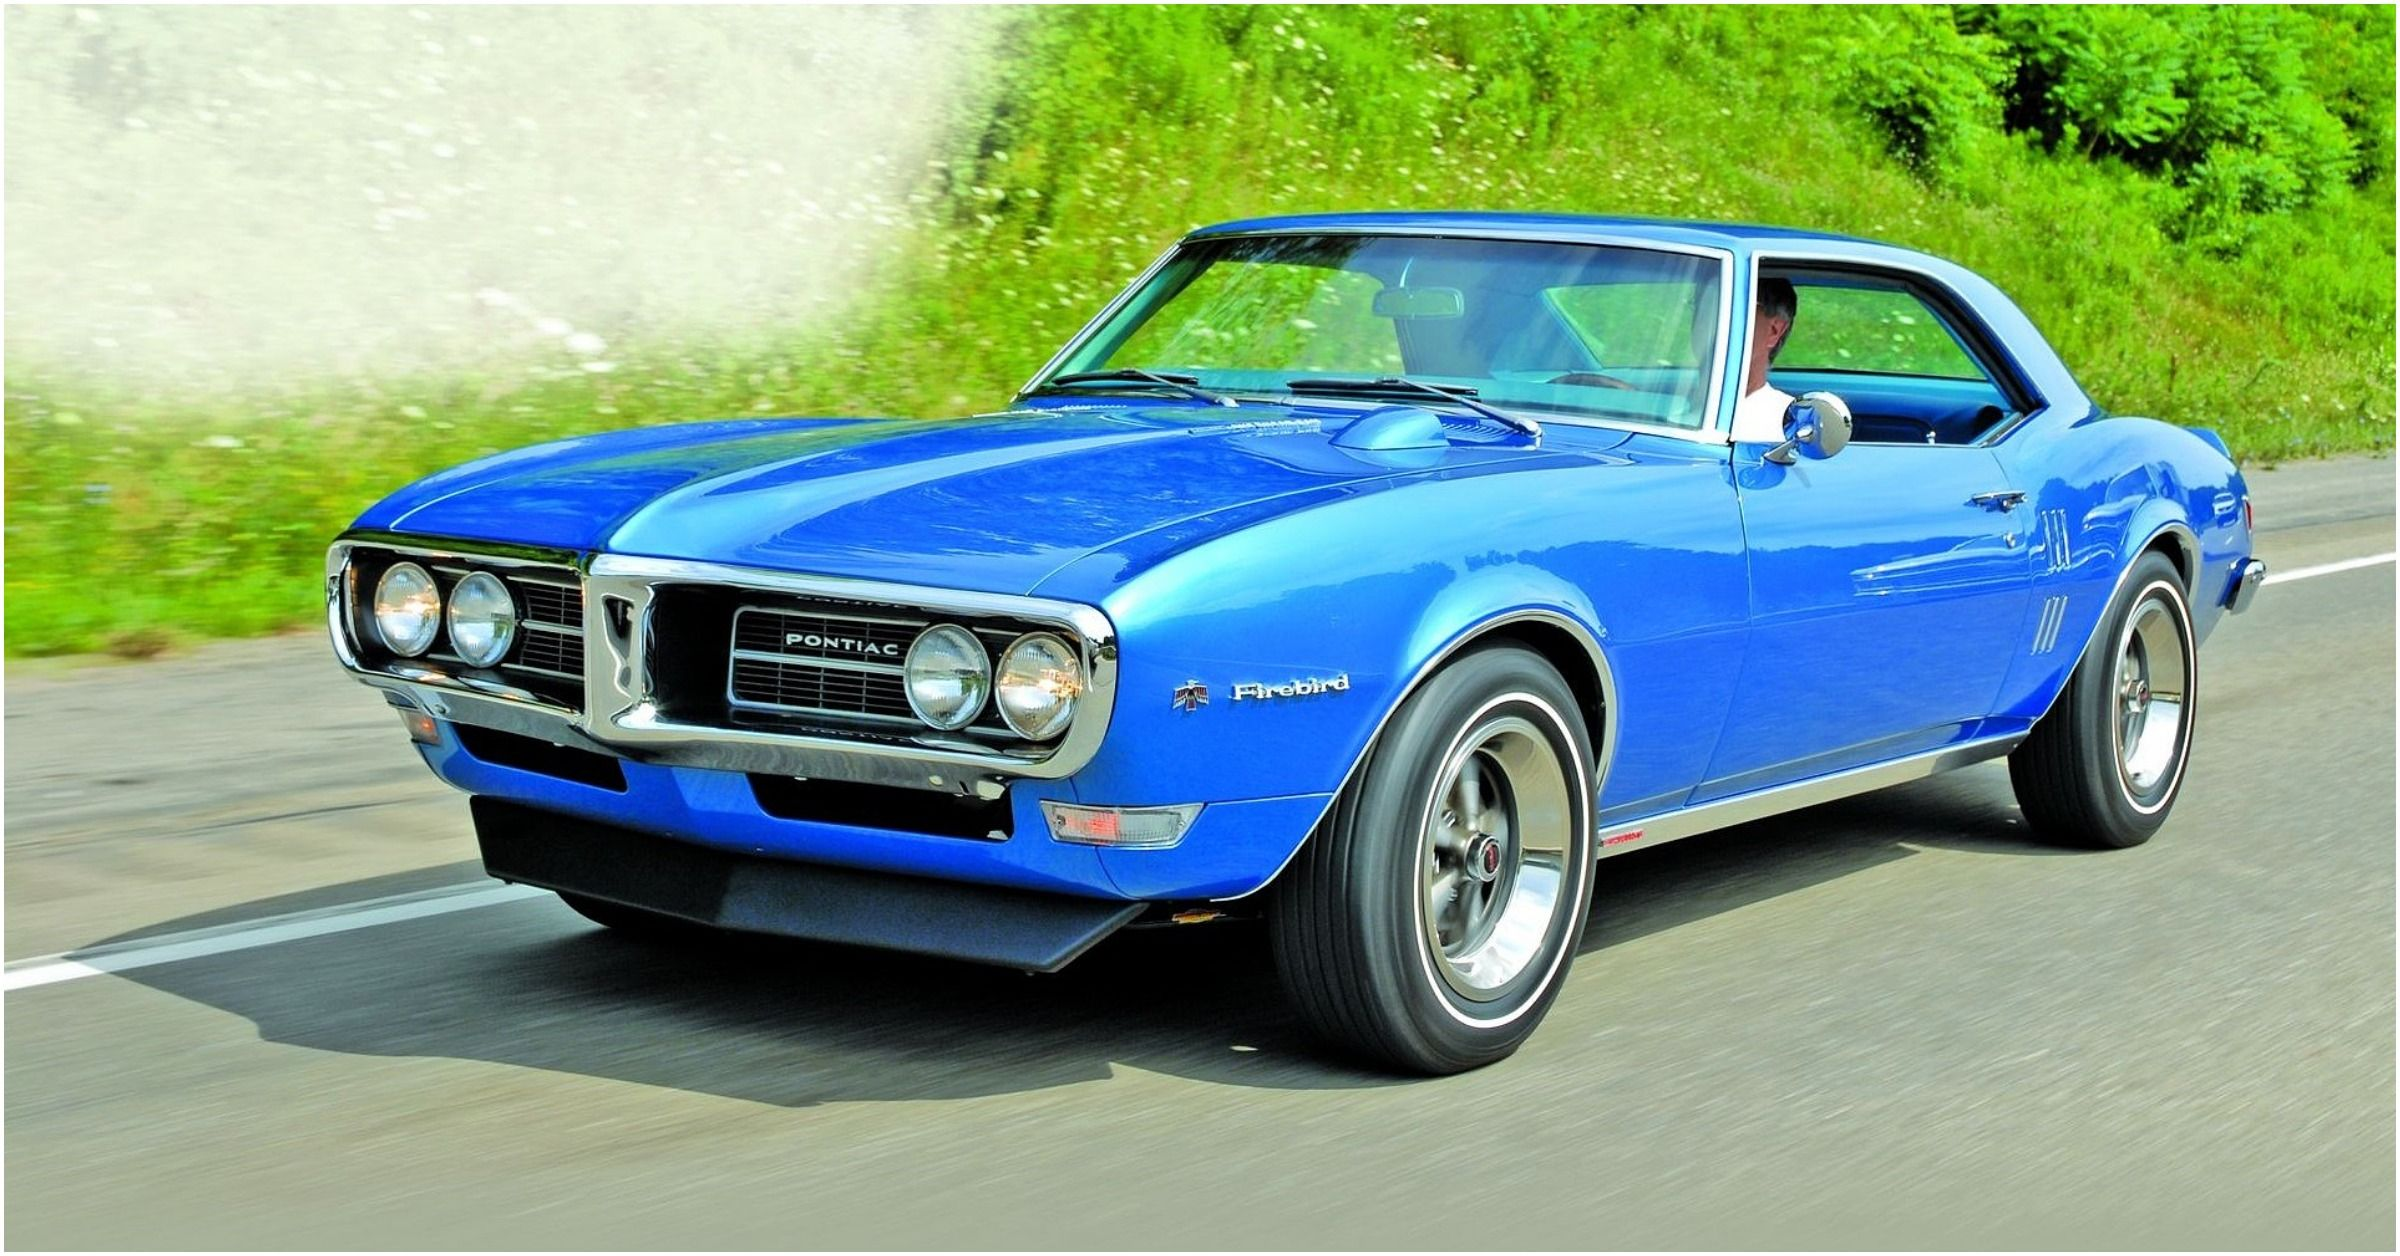headlight: (868, 603, 1087, 732), (348, 564, 527, 673)
wheel: (1229, 630, 1605, 1077), (1998, 521, 2195, 850)
